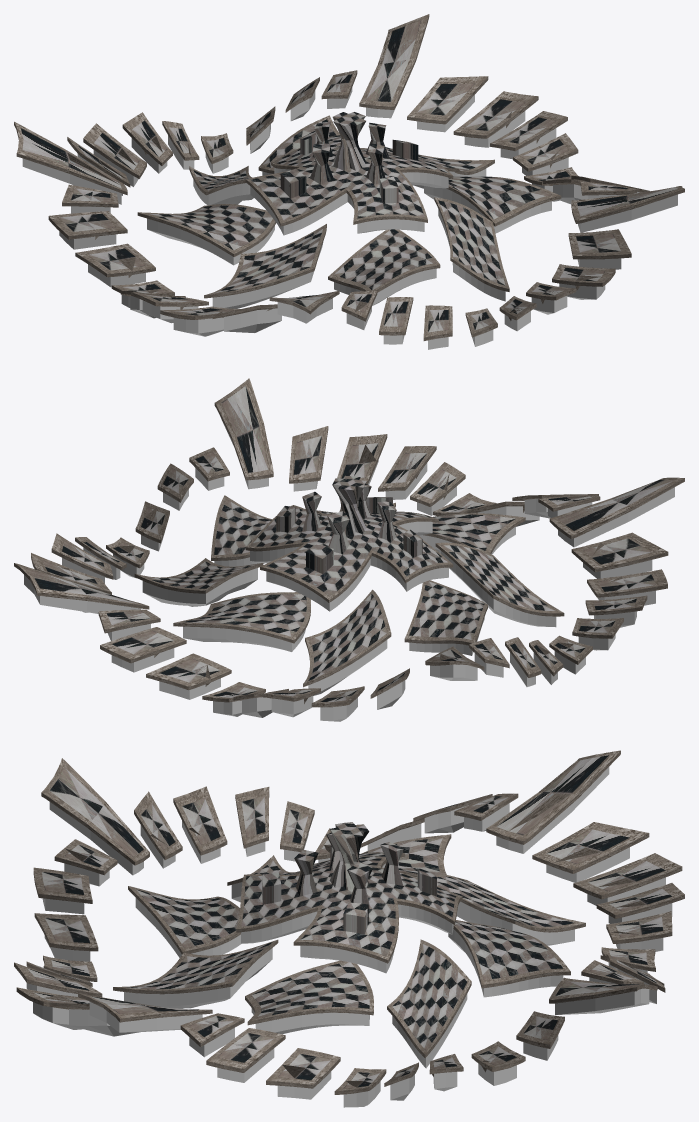
File: Dragonfly_ADifferentPlace_02.fbx
The picture shows the model from 3 angles, top to bottom: view 1: azimuth 30°, elevation 25°; view 2: azimuth 150°, elevation 25°; view 3: azimuth 270°, elevation 25°; orthographic projection. The views are drawn at different scales.
Visible parts, largest first — view 1: Cube; view 2: Cube; view 3: Cube.
Boxes of the visible parts, x1,y1,x2,y2 form: Cube: [14, 14, 684, 349]; Cube: [14, 378, 684, 721]; Cube: [14, 750, 684, 1107].
Size of the model in its own units: 52.49 by 13.82 by 52.49.
